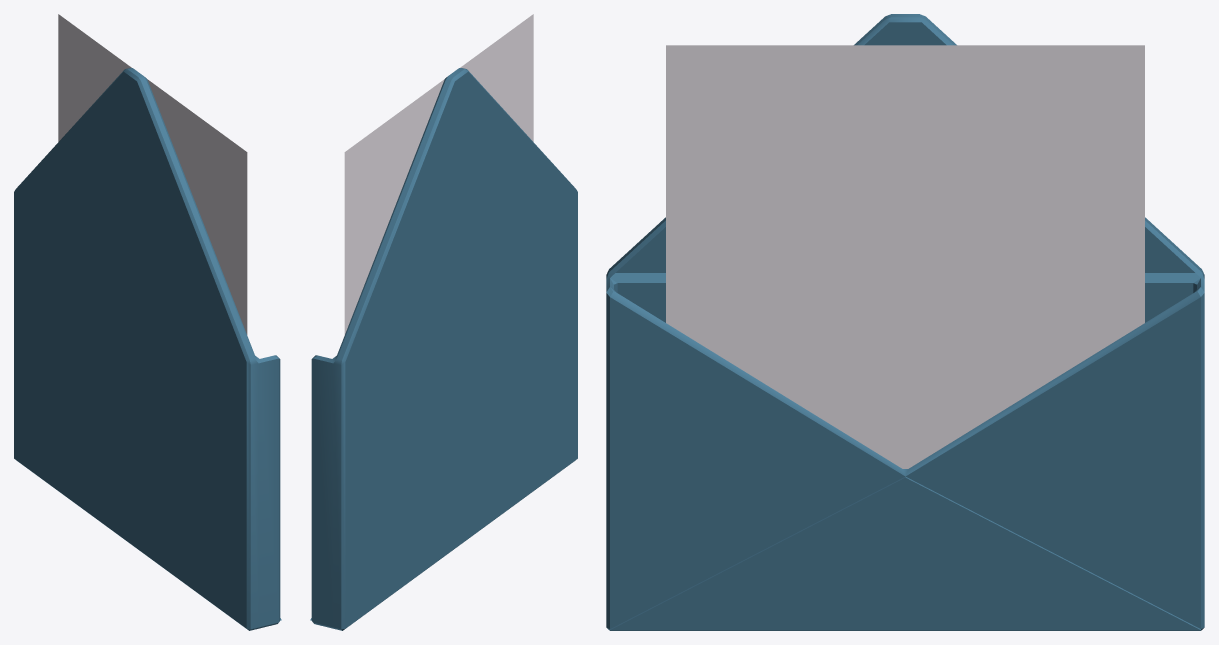
Rendered from Mail.gltf.
The picture shows the model from 3 angles, left to right: view 1: azimuth 30°, elevation 25°; view 2: azimuth 150°, elevation 25°; view 3: azimuth 270°, elevation 25°; orthographic projection. The views are drawn at different scales.
Visible parts, largest first — view 1: Mail; view 2: Mail; view 3: Mail.
Part boxes in pixels (x1,y1,x2,y2): Mail: (14, 14, 281, 630); Mail: (310, 14, 577, 630); Mail: (606, 14, 1204, 630).
Size of the model in its own units: 0.00641 by 0.0824 by 0.0745.
